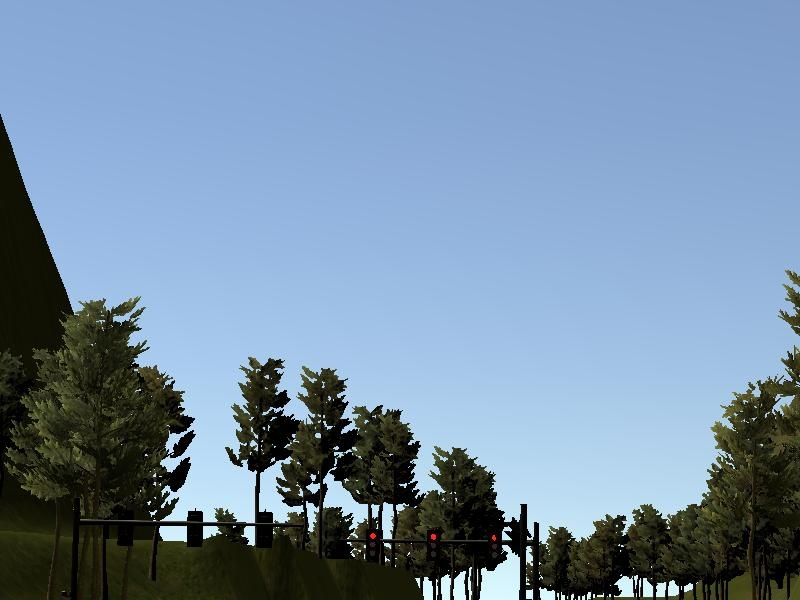traffic_light_red: (357, 527, 510, 565)
